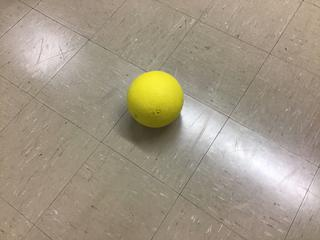power_cell: (117, 71, 190, 131)
